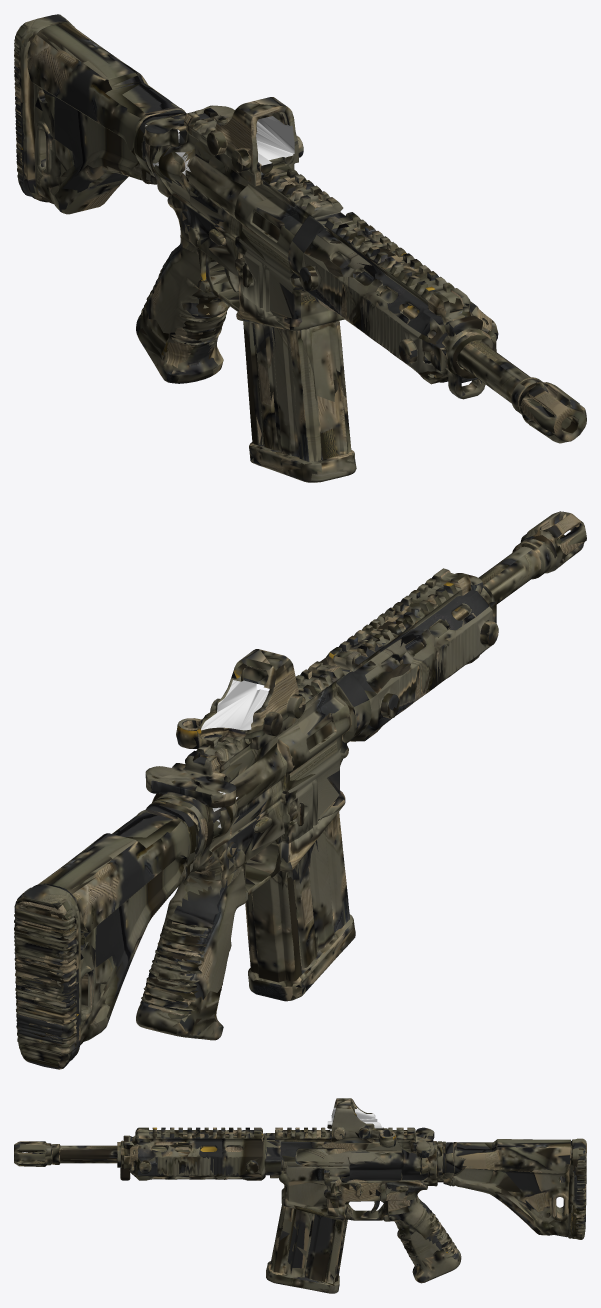
The picture shows the model from 3 angles, top to bottom: view 1: azimuth 30°, elevation 25°; view 2: azimuth 150°, elevation 25°; view 3: azimuth 270°, elevation 25°; orthographic projection. The views are drawn at different scales.
Parts seen in each view (by area): view 1: Body, Magazine, ChargingHandle; view 2: Body, Magazine, ChargingHandle; view 3: Body, Magazine, ChargingHandle.
Part boxes in pixels (x1,y1,x2,y2): Body: (14,14,586,443); Magazine: (236,291,356,482); ChargingHandle: (144,106,234,176); Body: (14,511,586,1069); Magazine: (245,807,355,1001); ChargingHandle: (145,763,237,828); Body: (14,1098,586,1283); Magazine: (266,1204,352,1293); ChargingHandle: (400,1127,429,1169).
Bounding box in the file's own units: 0.1288 × 0.4706 × 1.31.
